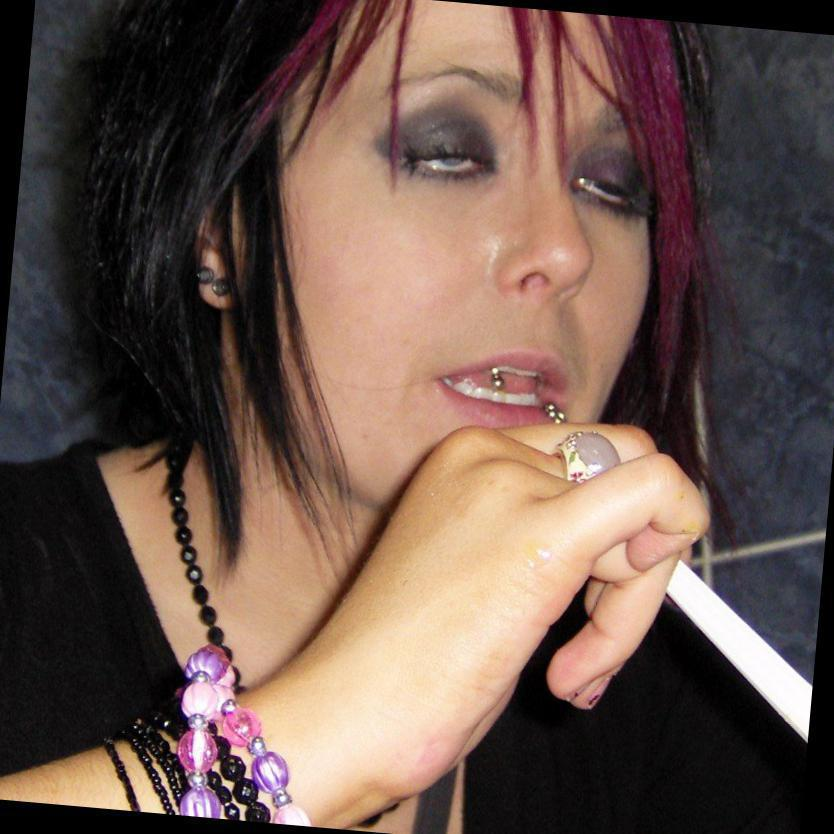Drunk: (334, 0, 634, 459)
